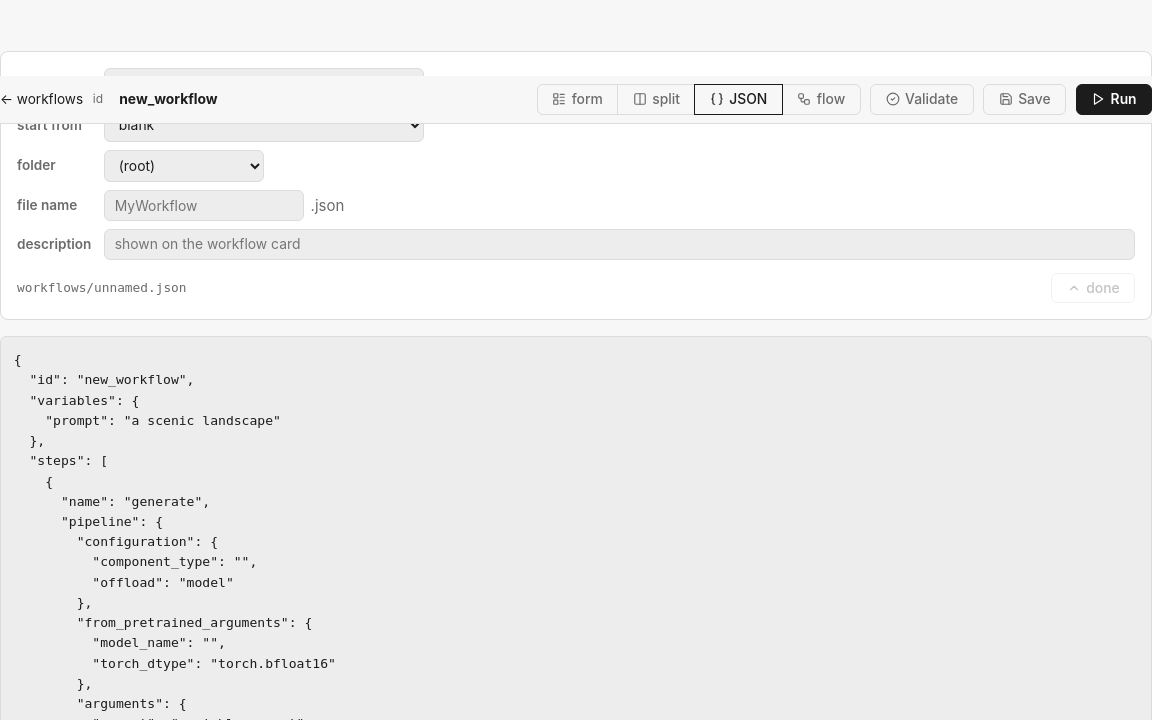
EditorPage new workflow origin › offers blank or an example, and starting from one loads it and names it
Select "templates/tti" in the dropdown labelled "start from" at (264,125), box [104,109,424,142]
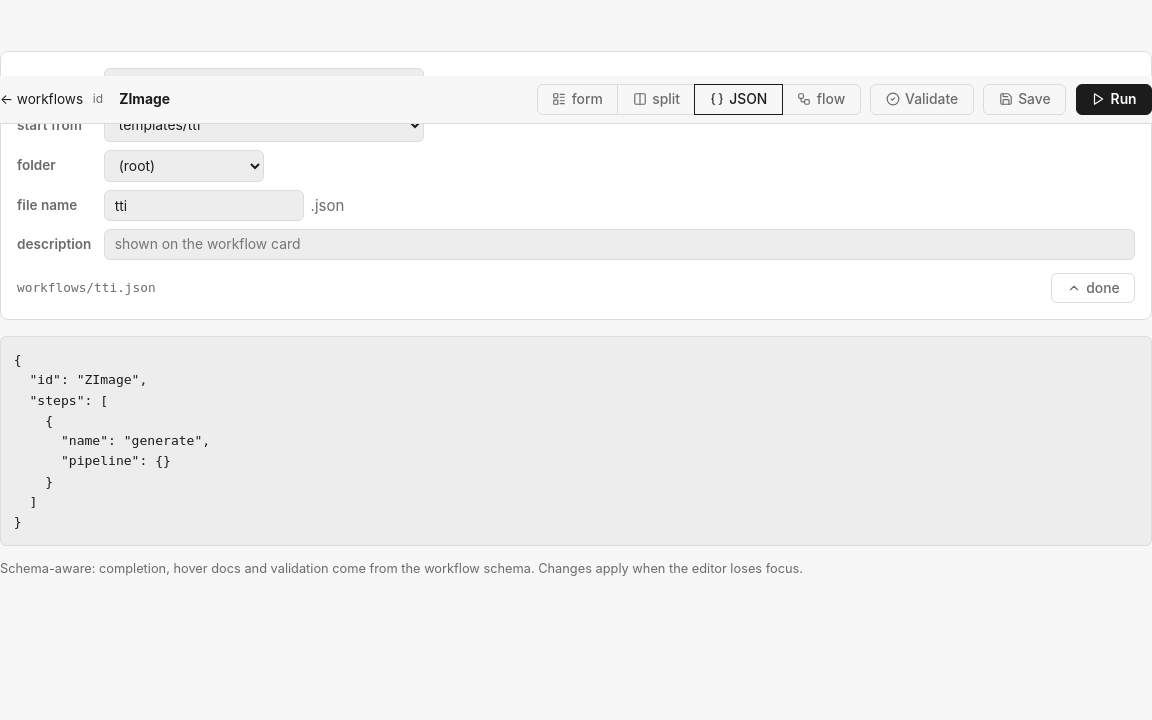
Check: the field labelled "file name" holds "tti", box [104,190,304,221]
Check: the field named "workflow id" holds "ZImage", box [109,84,352,115]
